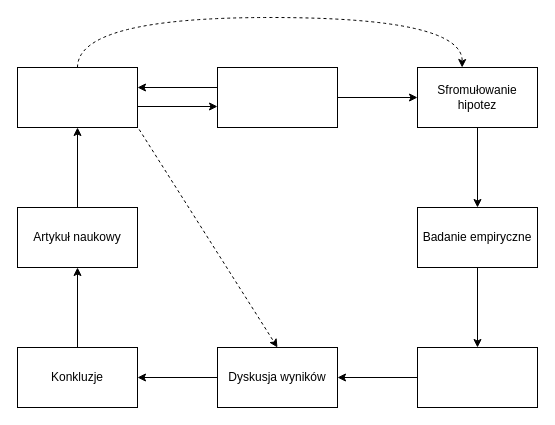
This 555x425 diagram has some shape labels left out. Each missing label, with the box of its shape:
Analiza wyników: (416, 346, 538, 408)
Kontekst literatury: (16, 66, 138, 128)
Pytanie badawcze: (216, 66, 338, 128)
